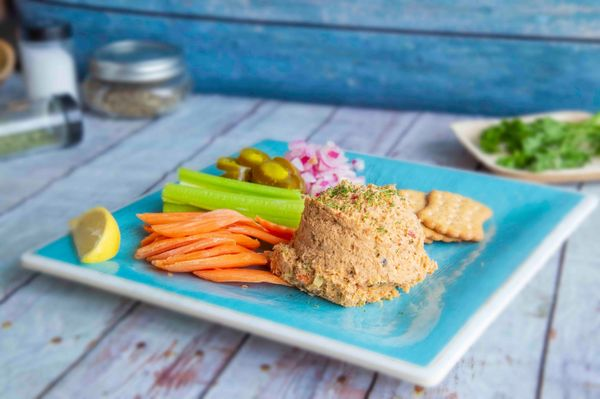sushi: (450, 111, 600, 190)
